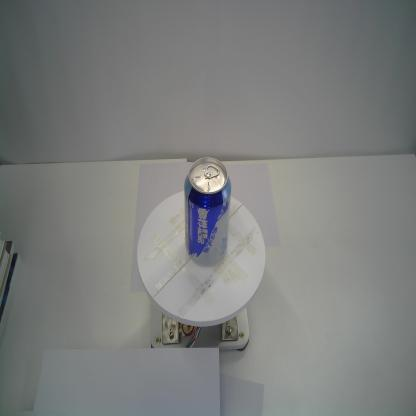Alcohol: (183, 153, 232, 270)
